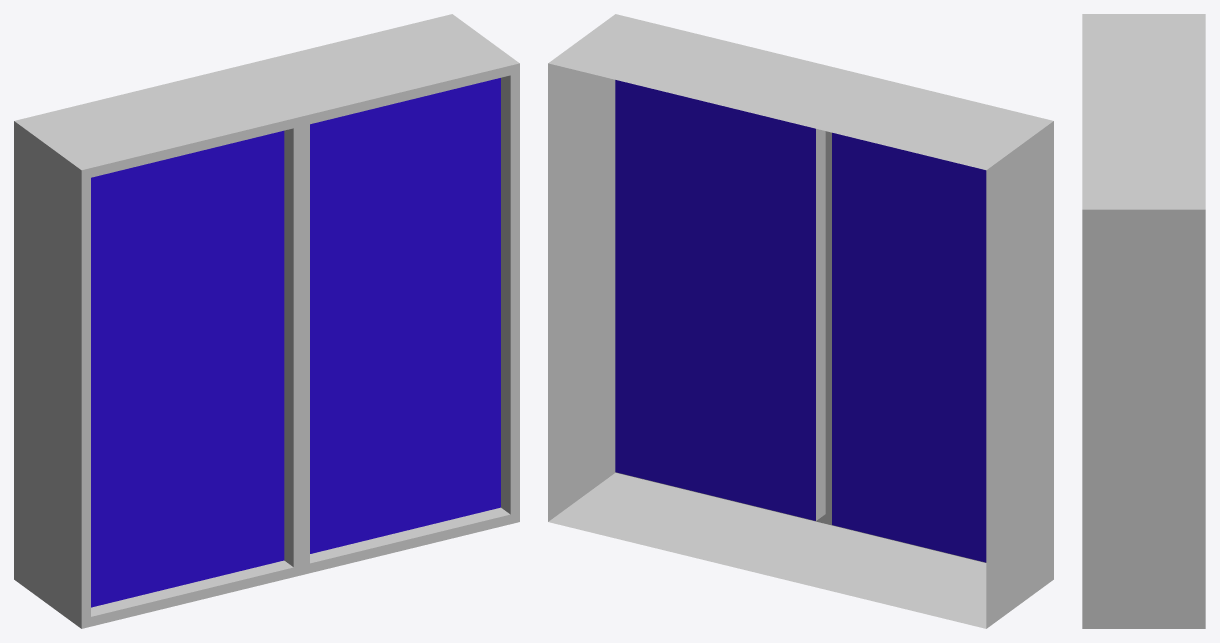
Rendered from Window_Door.fbx.
3 views of the same model, side by side, from view 1: azimuth 30°, elevation 25°; view 2: azimuth 150°, elevation 25°; view 3: azimuth 270°, elevation 25° (orthographic). The views are drawn at different scales.
Visible parts, largest first — view 1: Window_Door; view 2: Window_Door; view 3: Window_Door.
Part boxes in pixels (box(x1,y1,x2,y2)): Window_Door: box(14, 14, 519, 628); Window_Door: box(548, 14, 1053, 628); Window_Door: box(1082, 14, 1205, 628).
Bounding box in the file's own units: 200 × 200 × 53.31.
